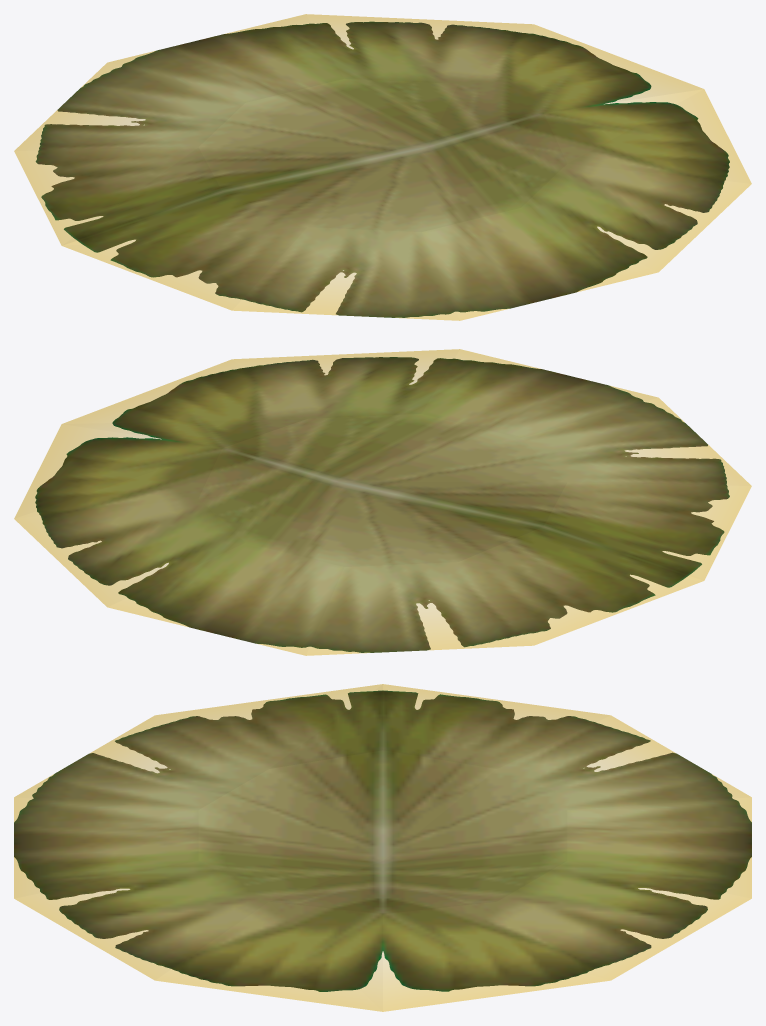
Rendered from leafboatrotten_bake.dae.
3 renders of one model, top to bottom at view 1: azimuth 30°, elevation 25°; view 2: azimuth 150°, elevation 25°; view 3: azimuth 270°, elevation 25°, orthographic. The views are drawn at different scales.
Visible parts, largest first — view 1: m0, m0_VC; view 2: m0, m0_VC; view 3: m0, m0_VC.
Part boxes in pixels (box(x1,y1,x2,y2)): m0: box(35, 21, 729, 317); m0_VC: box(14, 14, 751, 320); m0: box(35, 357, 729, 652); m0_VC: box(14, 349, 751, 655); m0: box(14, 690, 751, 991); m0_VC: box(14, 684, 751, 1011).
Size of the model in its own units: 529 by 11.83 by 503.
2 materials, 2 textured.
